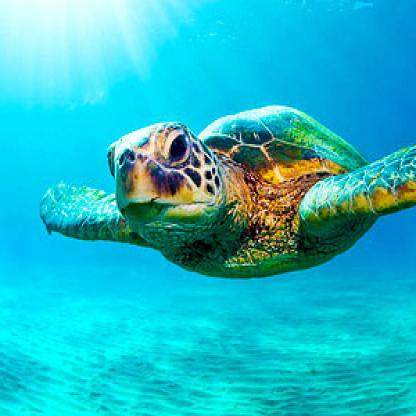turtle: (102, 114, 231, 256)
